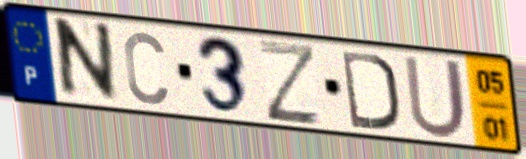3: (193, 32, 255, 119)
C: (120, 28, 171, 107)
D: (338, 47, 402, 134)
N: (55, 15, 121, 105)
U: (401, 53, 470, 142)
Z: (255, 37, 324, 128)
